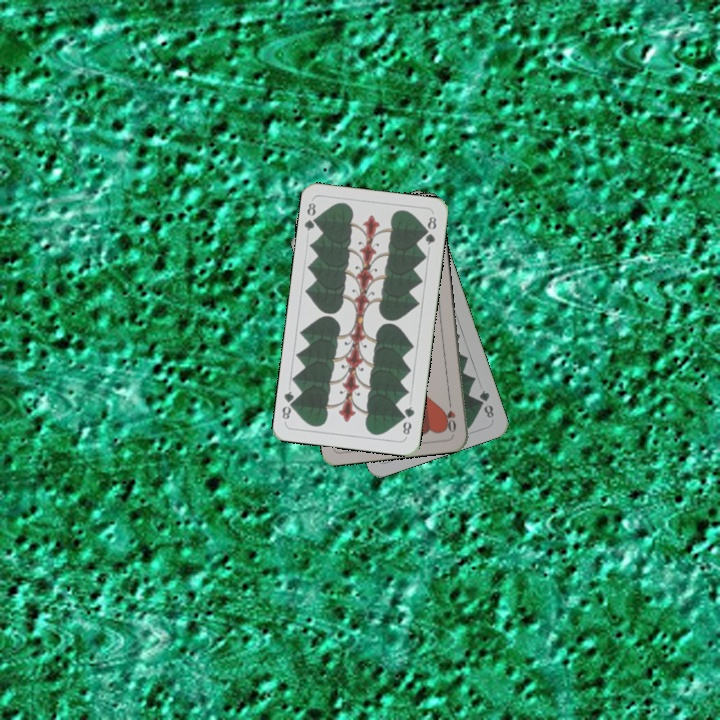G8: (300, 198, 322, 234), (475, 386, 497, 421), (398, 402, 417, 439)
HO: (442, 395, 459, 435)
